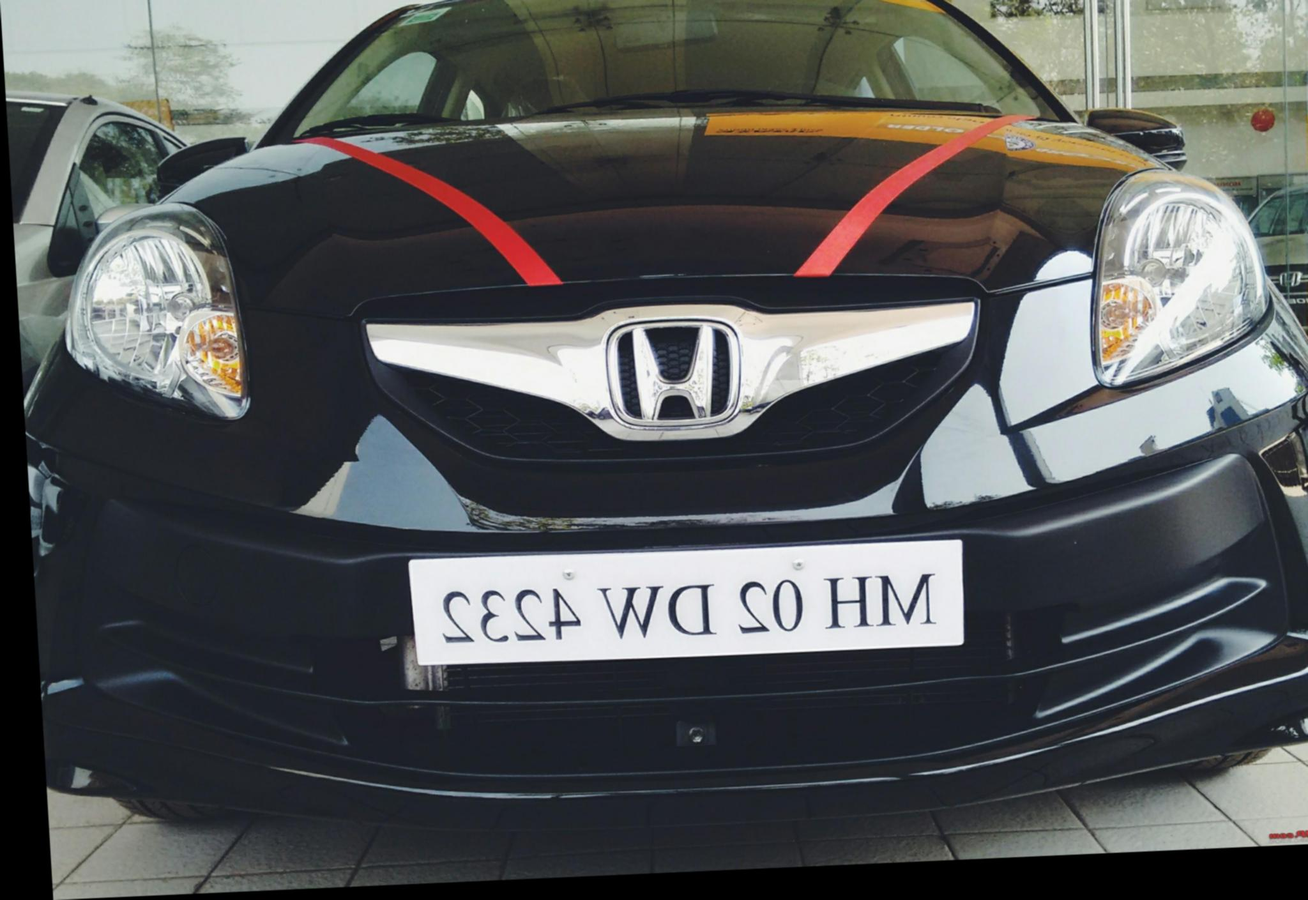License_Plate: (389, 523, 984, 694)
